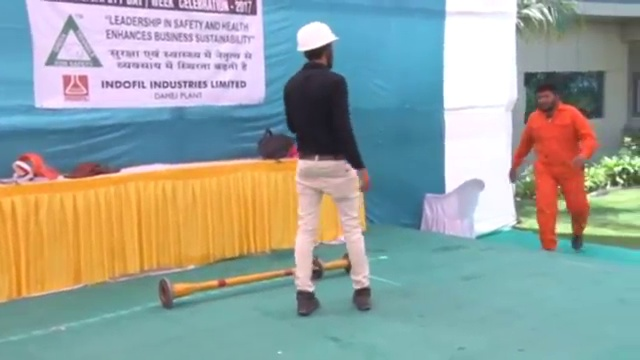helmet: (295, 21, 340, 52)
helmet_off: (530, 81, 561, 113)
helmet_on: (294, 22, 341, 69)
person: (281, 21, 372, 314), (510, 82, 596, 253)
